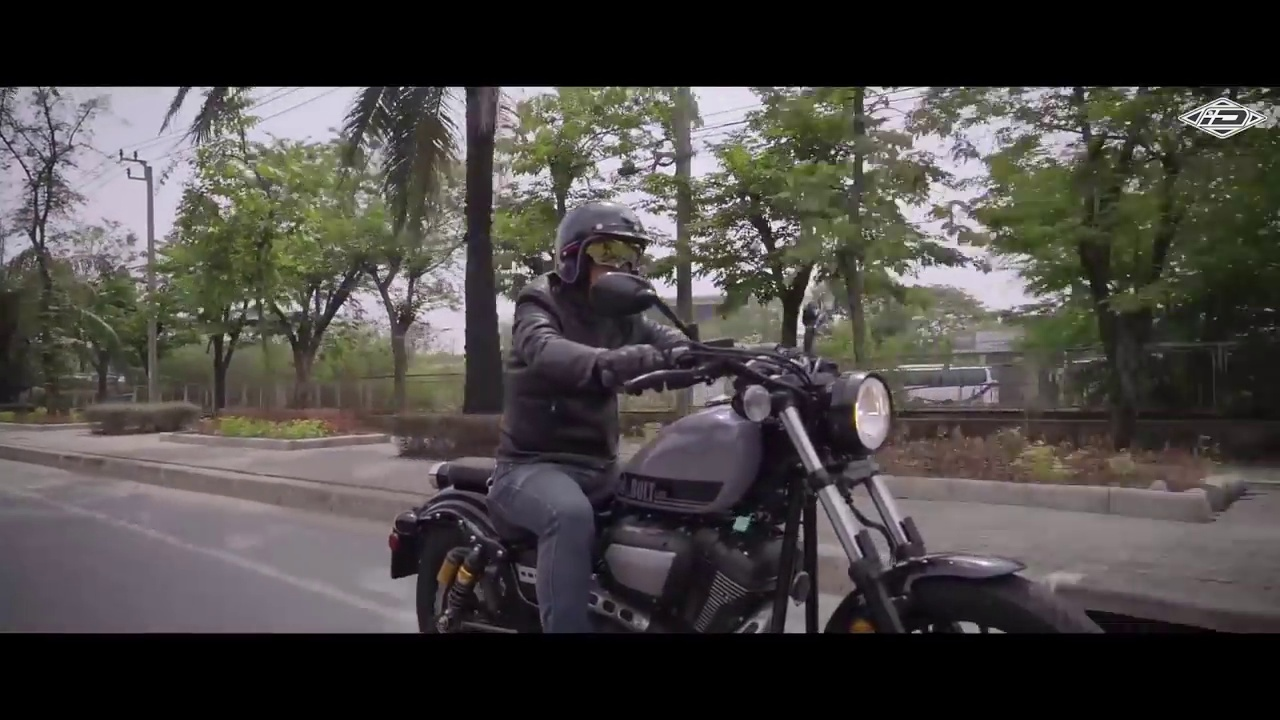helmet: (546, 189, 655, 268)
